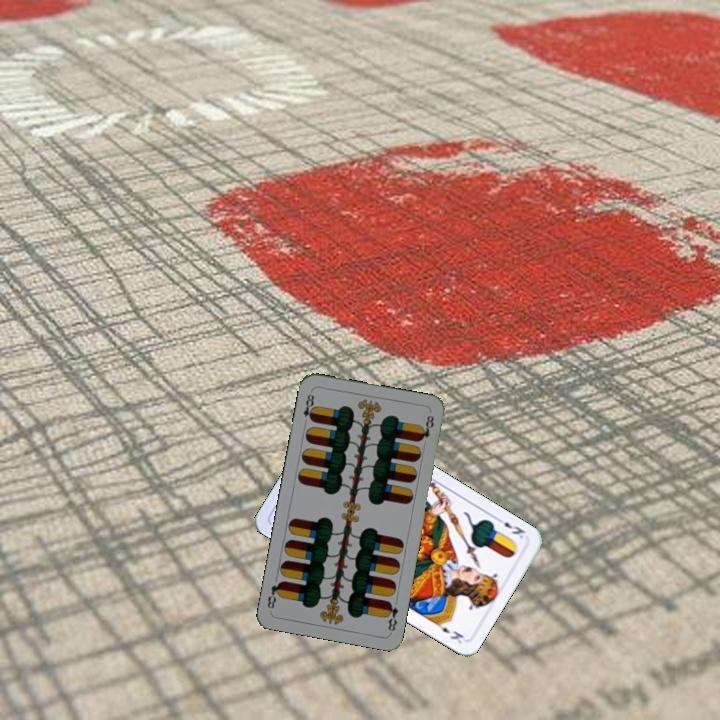E8: (299, 387, 318, 427), (382, 597, 401, 635)
EK: (492, 513, 528, 541)
